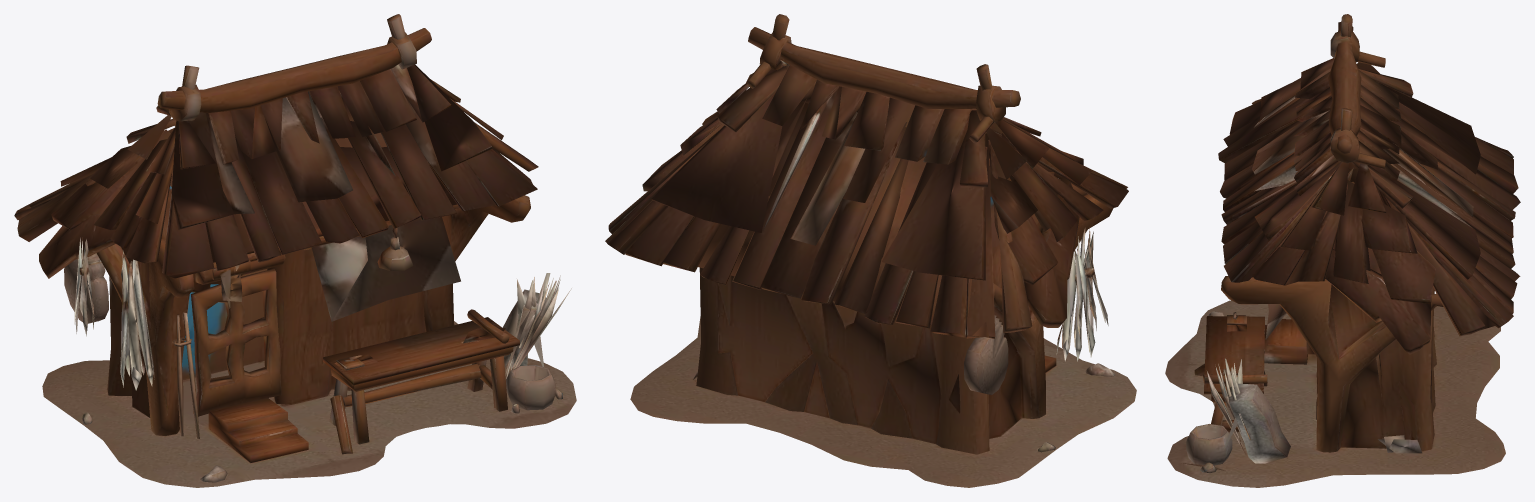
File: fletcherHut.glb
3 views of the same model, side by side, from view 1: azimuth 30°, elevation 25°; view 2: azimuth 150°, elevation 25°; view 3: azimuth 270°, elevation 25° (orthographic). The views are drawn at different scales.
Bounding box in the file's own units: 0.9575 × 0.7324 × 0.7164.
Materials: 1 (1 with a texture image).
